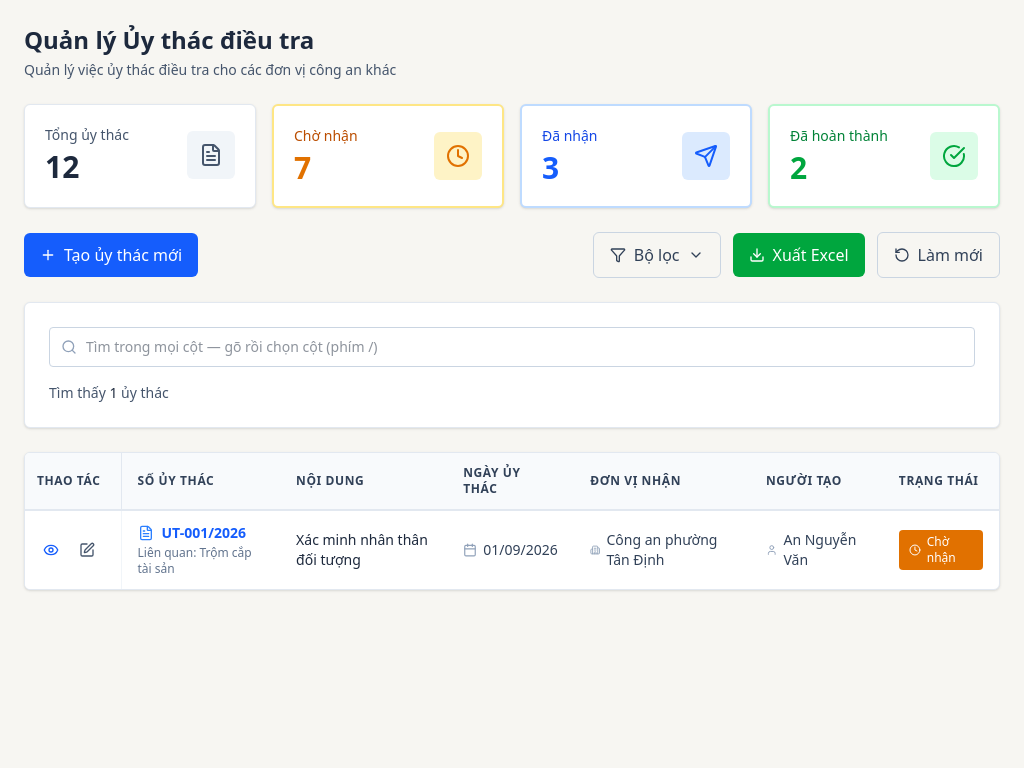
Test: InvestigationDelegationPage — tìm kiếm và thống kê phía máy chủ › lưu trùng số ủy thác (máy chủ 409) → báo lỗi dưới ô Số ủy thác, không im lặng
The image size is (1024, 768).
Expected: the button with test id "view-delegation-d1" is shown, [37, 536, 65, 564]
Step 1. Click the button with test id "create-delegation-btn" → (111, 255), box [24, 233, 198, 277]
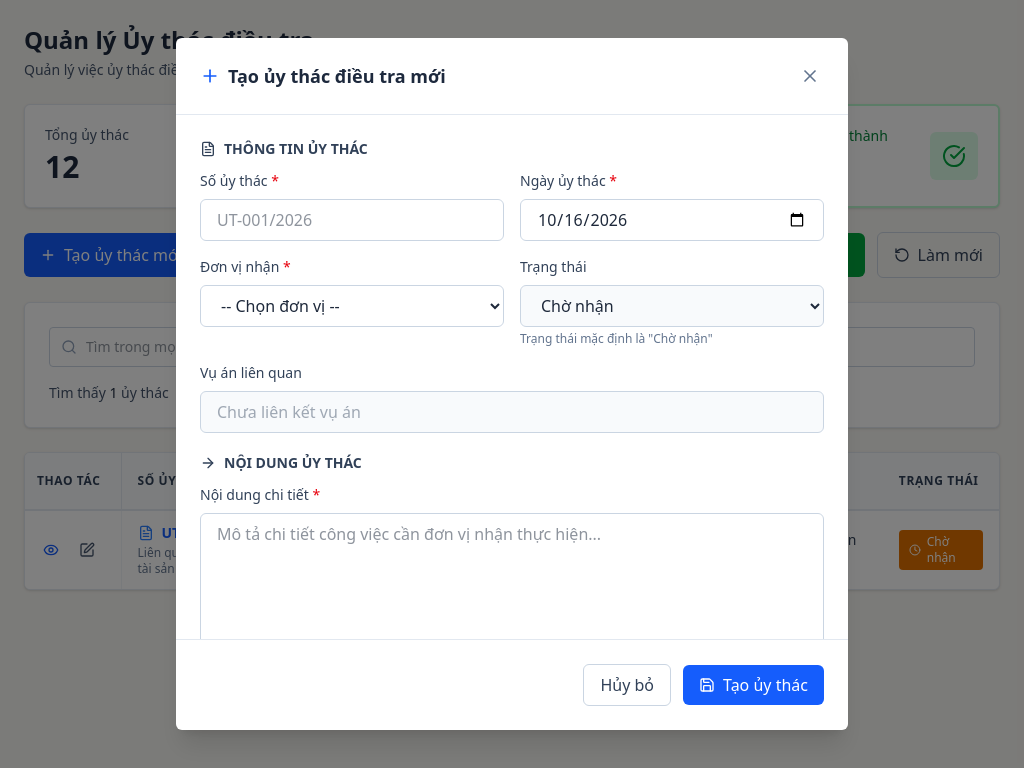
Step 2. Type "UT-009/2026" into the field with test id "delegation-number-input" → (352, 220), box [200, 199, 504, 241]
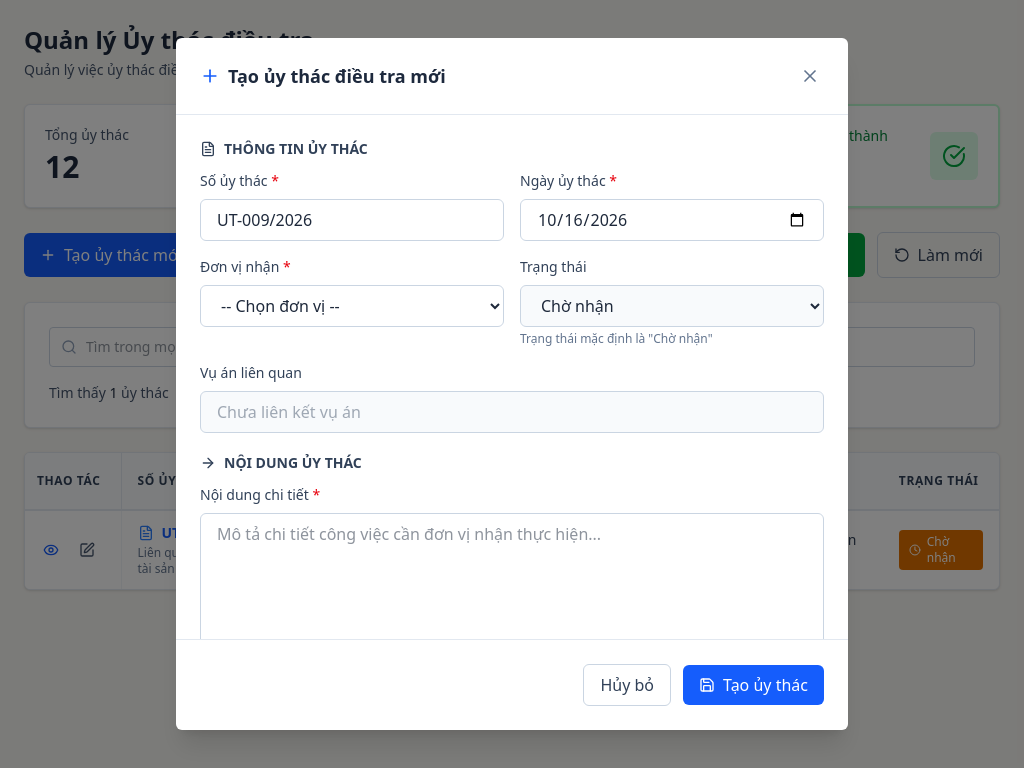
Step 3. Type "Nội dung ủy thác đủ dài" into the text box with test id "delegation-content-textarea" → (512, 582), box [200, 513, 824, 651]
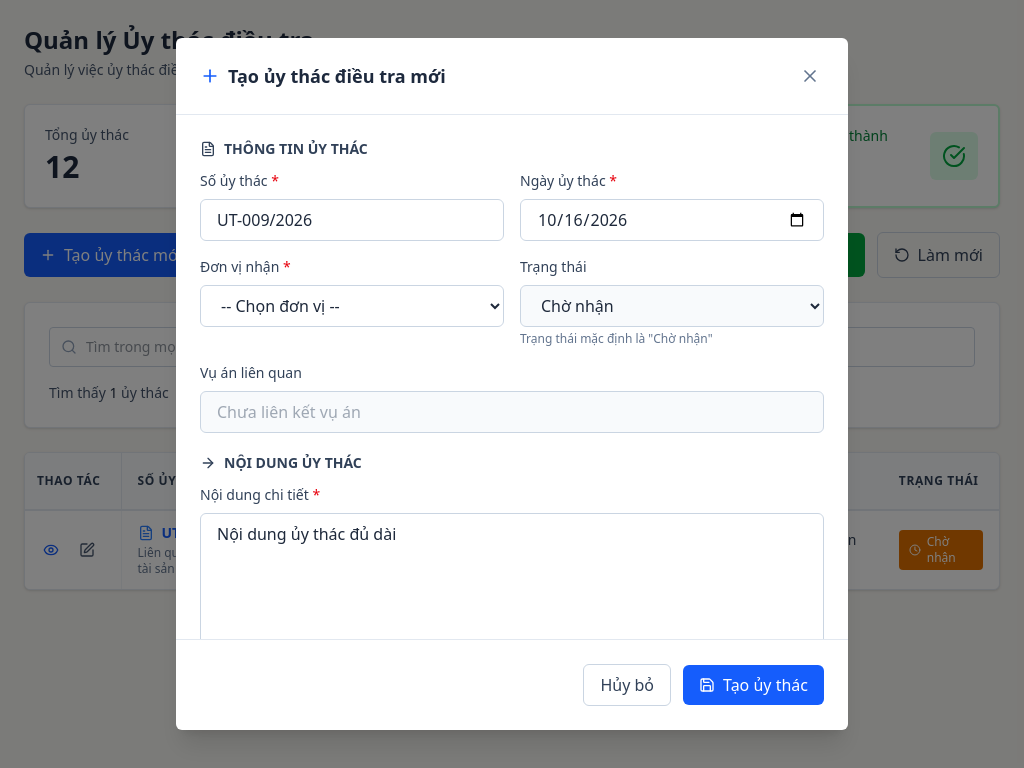
Step 4. Select "Công an Quận 1" in the dropdown with test id "receiving-unit-select" → (352, 306), box [200, 285, 504, 327]
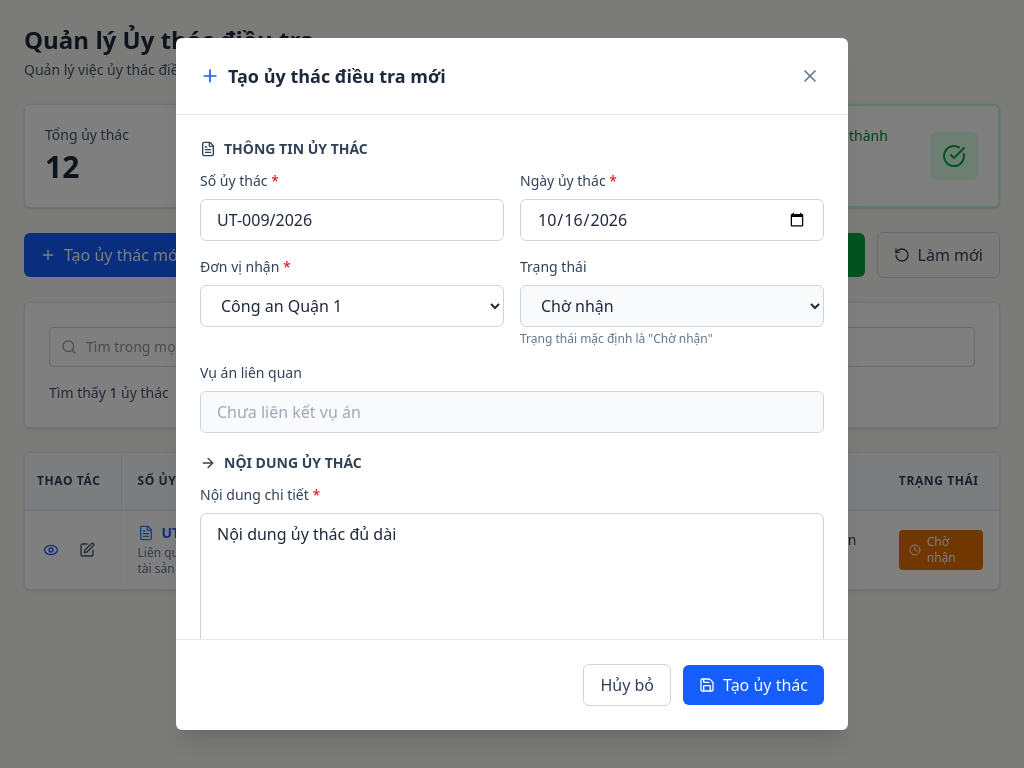
Step 5. Click the button with test id "save-delegation-btn" → (754, 685), box [683, 665, 824, 705]
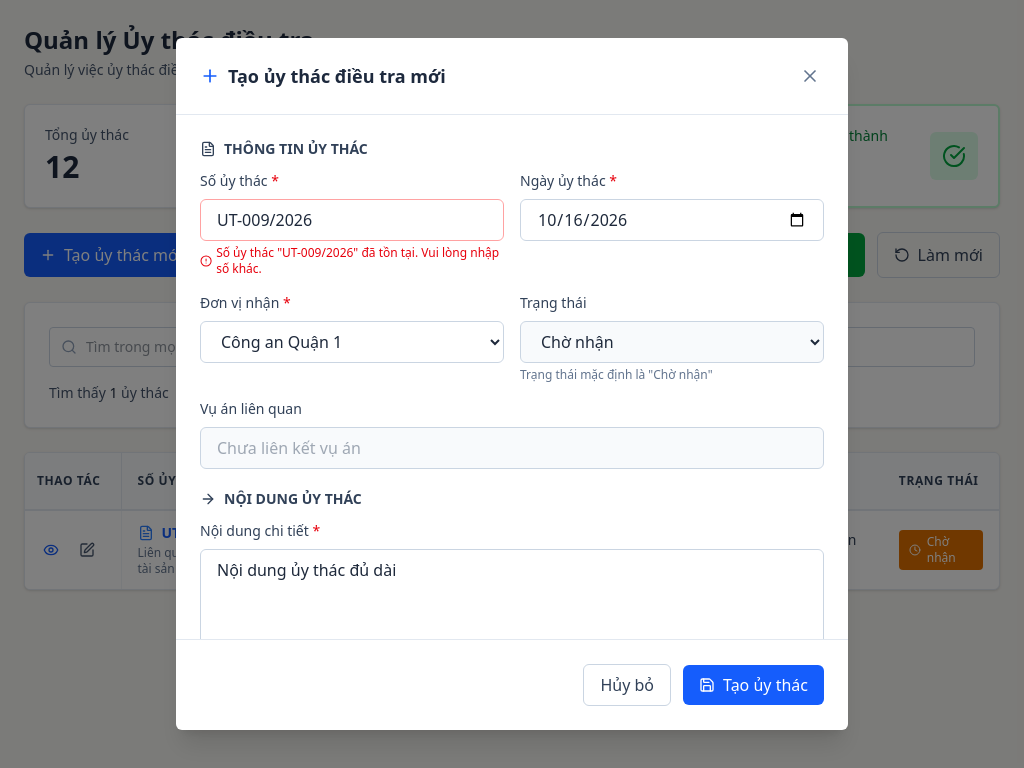
Result: the text "Số ủy thác \"UT-009/2026\" đã tồn tại. Vui lòng nhập số khác." is shown at [216, 245, 504, 277]
